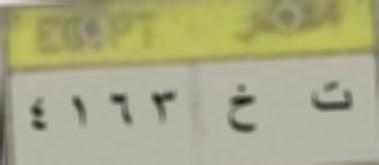1: (62, 91, 93, 135)
3: (146, 87, 180, 133)
4: (24, 90, 53, 136)
6: (106, 88, 135, 130)
khaa: (226, 82, 258, 137)
taa: (306, 71, 359, 120)
